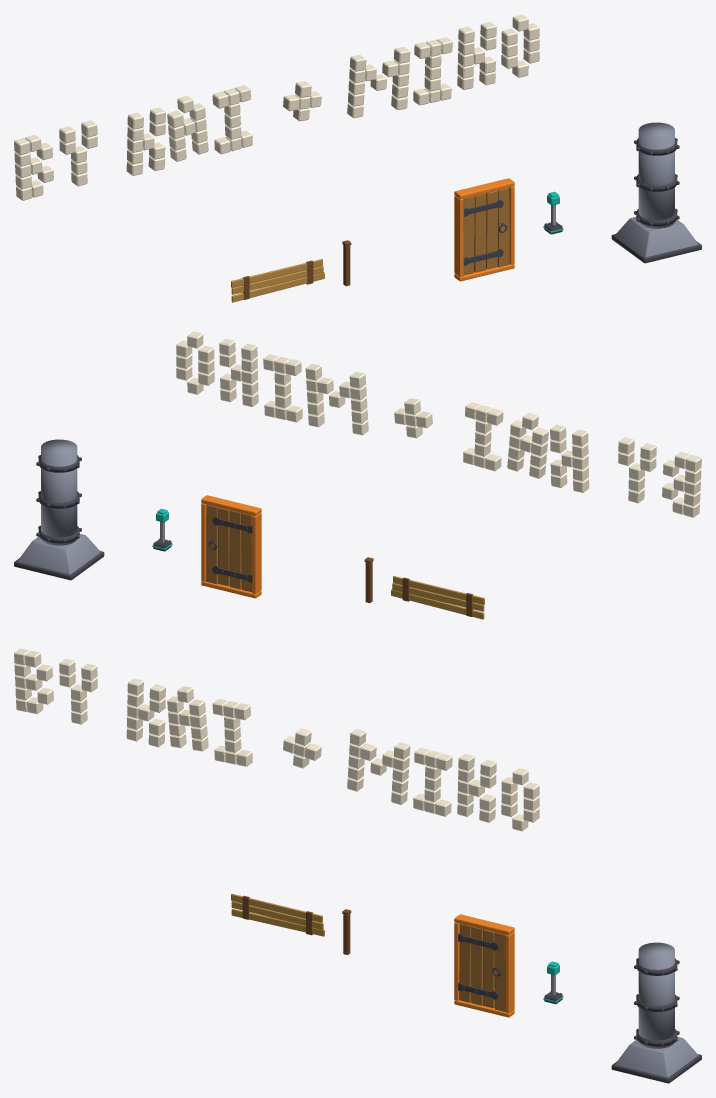
File: PixelPlainsKit3.fbx
The picture shows the model from 3 angles, top to bottom: view 1: azimuth 30°, elevation 25°; view 2: azimuth 150°, elevation 25°; view 3: azimuth 330°, elevation 25°; orthographic projection.
Visible parts, largest first — view 1: PP_Prop_HillSign, PP_Prop_Chute_Pipe, PP_Prop_TimedDoor_Body, PP_Prop_TimedDoor_Frame, PP_Prop_Sign_Planks, PP_Prop_Chute_Bands, PP_Prop_TimedDoor_Bands; view 2: PP_Prop_HillSign, PP_Prop_Chute_Pipe, PP_Prop_TimedDoor_Body, PP_Prop_TimedDoor_Frame, PP_Prop_Sign_Planks, PP_Prop_Chute_Bands, PP_Prop_TimedDoor_Bands; view 3: PP_Prop_HillSign, PP_Prop_Chute_Pipe, PP_Prop_TimedDoor_Body, PP_Prop_TimedDoor_Frame, PP_Prop_Sign_Planks, PP_Prop_Chute_Bands.
Part boxes in pixels (x1,y1,x2,y2): PP_Prop_HillSign: [14, 14, 539, 200]; PP_Prop_Chute_Pipe: [615, 122, 698, 257]; PP_Prop_TimedDoor_Body: [463, 187, 509, 274]; PP_Prop_TimedDoor_Frame: [454, 178, 514, 281]; PP_Prop_Sign_Planks: [231, 259, 324, 302]; PP_Prop_Chute_Bands: [611, 138, 701, 263]; PP_Prop_TimedDoor_Bands: [463, 200, 507, 265]; PP_Prop_HillSign: [176, 331, 701, 517]; PP_Prop_Chute_Pipe: [17, 439, 100, 574]; PP_Prop_TimedDoor_Body: [206, 504, 252, 591]; PP_Prop_TimedDoor_Frame: [201, 495, 261, 598]; PP_Prop_Sign_Planks: [391, 576, 484, 619]; PP_Prop_Chute_Bands: [14, 455, 104, 580]; PP_Prop_TimedDoor_Bands: [208, 517, 252, 582]; PP_Prop_HillSign: [14, 648, 539, 831]; PP_Prop_Chute_Pipe: [615, 942, 698, 1077]; PP_Prop_TimedDoor_Body: [459, 923, 505, 1011]; PP_Prop_TimedDoor_Frame: [454, 914, 514, 1017]; PP_Prop_Sign_Planks: [231, 893, 324, 936]; PP_Prop_Chute_Bands: [611, 958, 701, 1083].
Bounding box in the file's own units: 9714 × 3637 × 840.
